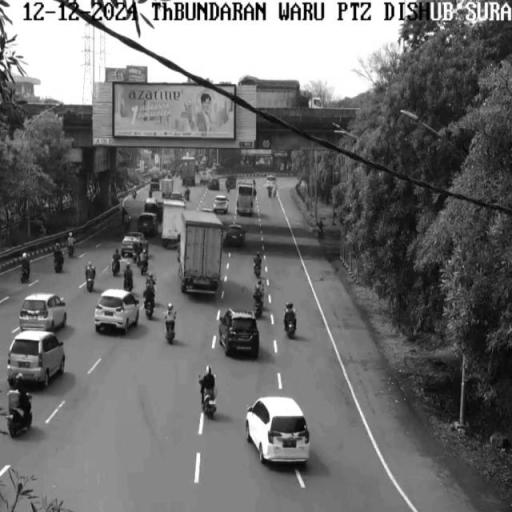car: (244, 394, 311, 466), (9, 331, 66, 389), (94, 291, 137, 334), (222, 307, 260, 355), (18, 294, 67, 331)
motorcycle: (8, 400, 31, 439), (201, 381, 218, 419), (281, 311, 300, 337), (164, 312, 176, 345), (145, 292, 157, 316), (122, 271, 133, 290), (110, 257, 121, 274), (86, 269, 94, 291)
truck: (182, 211, 220, 296), (160, 201, 185, 249)
